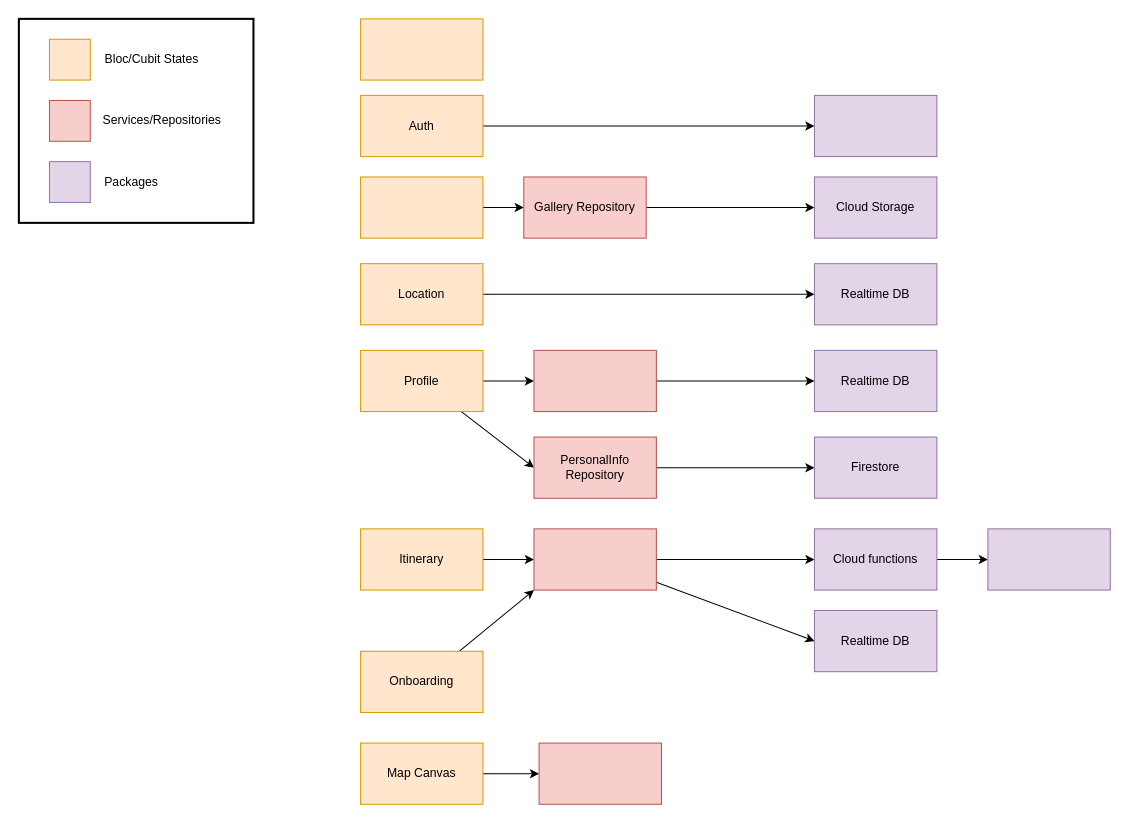
The diagram is 1128 pixels wide and 822 high, and some of its shapes have lost their labels. Here are the shapes that lost their labels. From the top down, the centre of each, then its label:
At (421,49): "Nav".
At (875,125): "Firebase Authentication".
At (421,207): "Gallery".
At (594,380): "Profile Repository".
At (594,559): "Itinerary Repository".
At (1048,559): "LLM (Gemini)".
At (599,773): "Marker Service".
